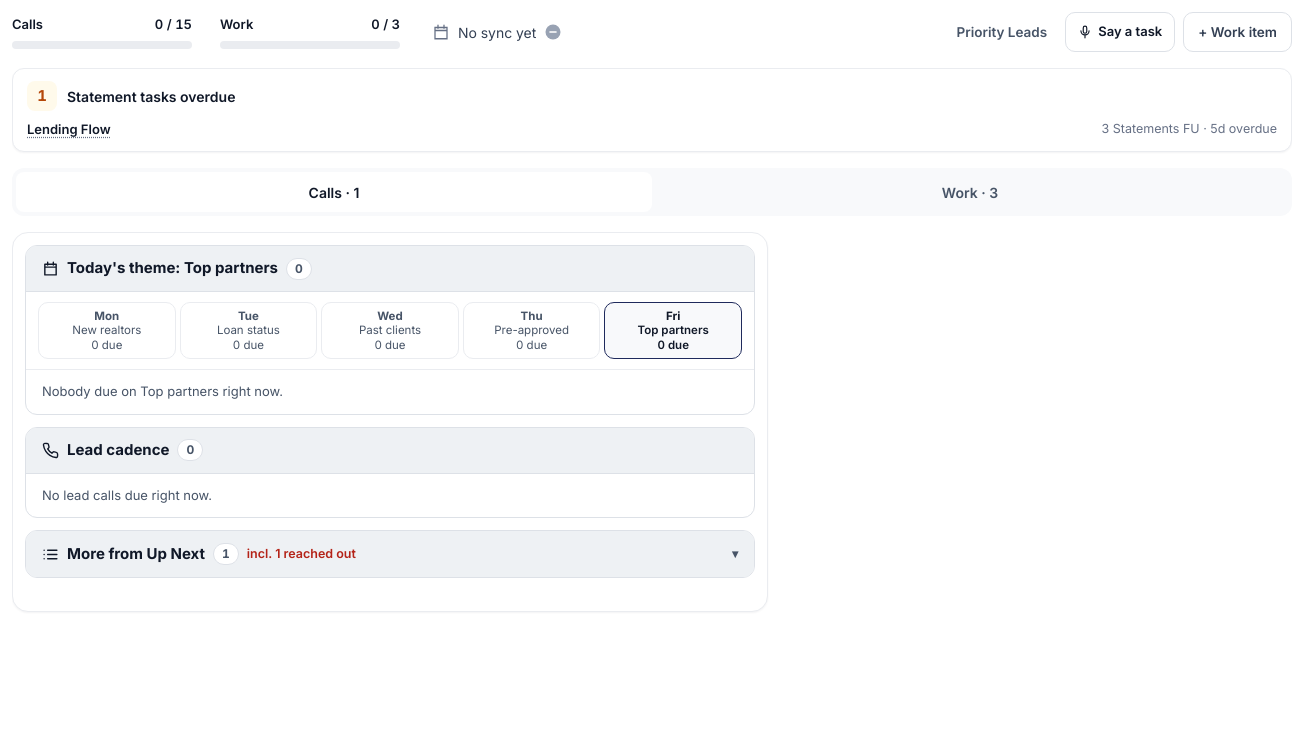
Workbench › shows one lane at a time on a phone
Check: the element named "Calls" is shown, box [12,232,768,612]
Click the tab "Work · 3".
click(970, 192)  # box [652,172,1288,212]
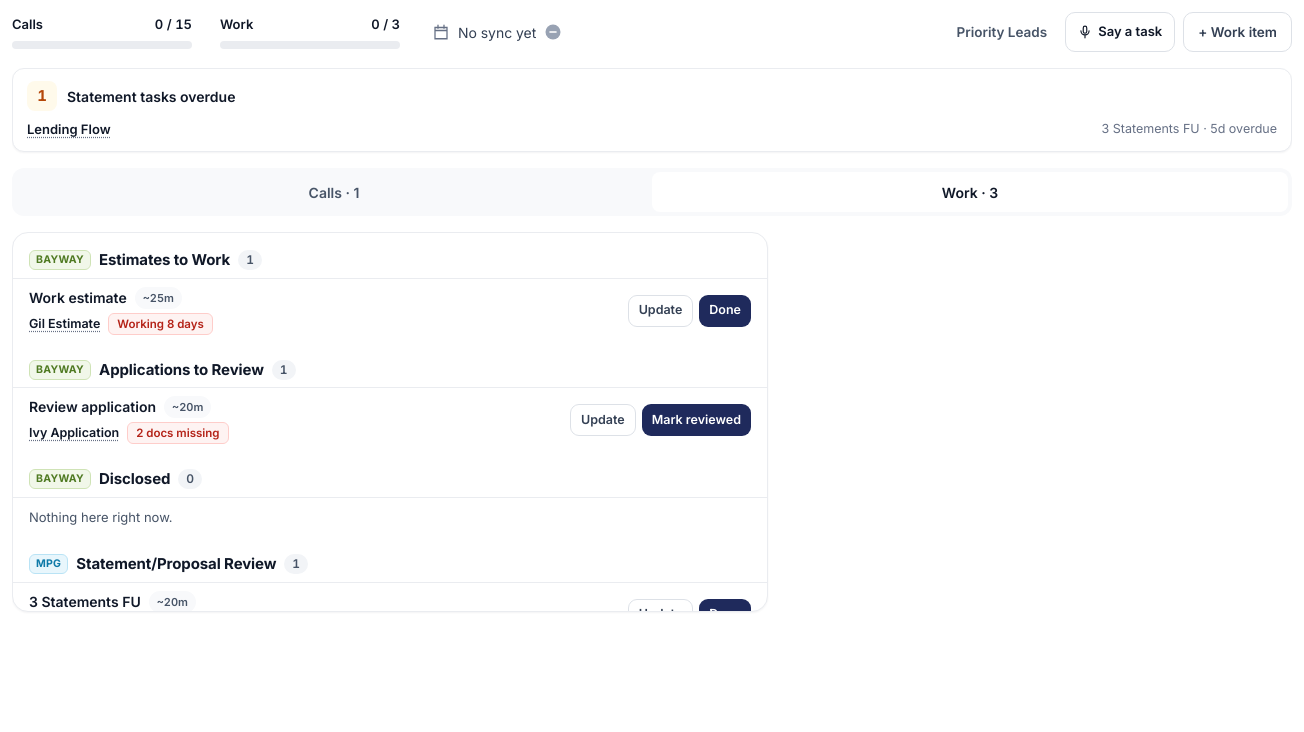
Check: the element named "Work" is shown, box [12,232,768,612]
Check: the element named "Calls" is gone
